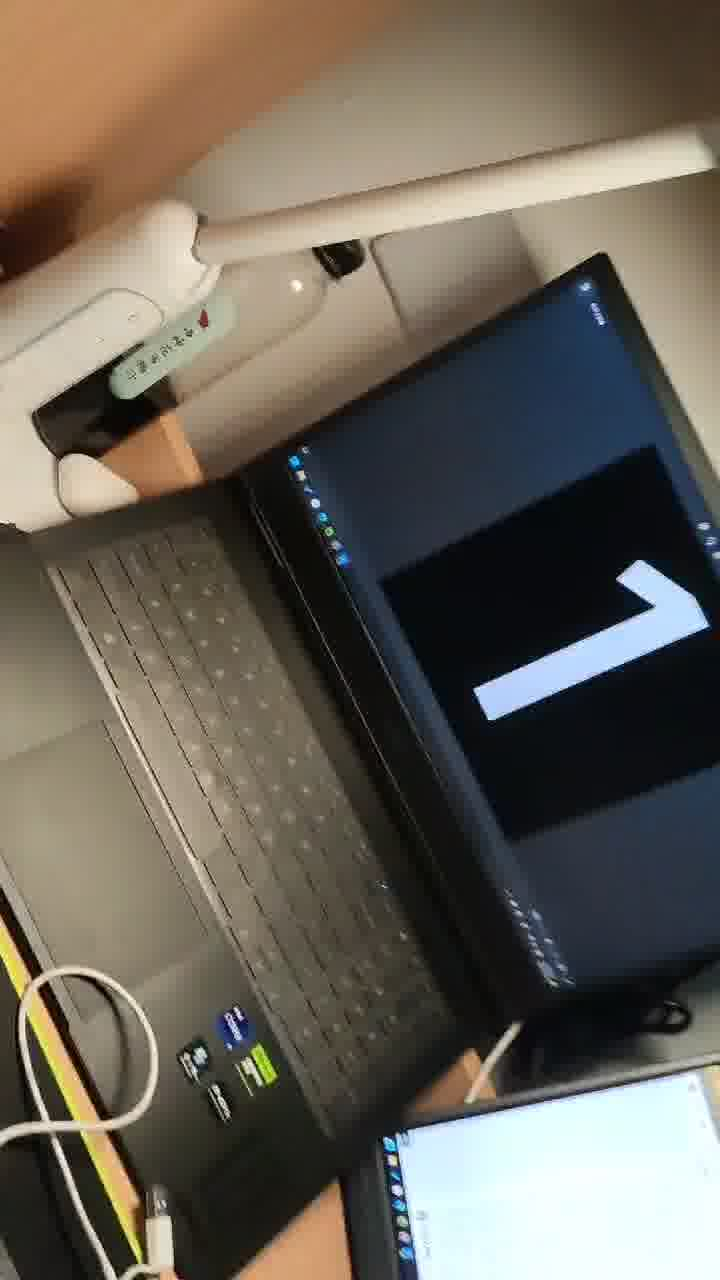one: (408, 481, 720, 812)
